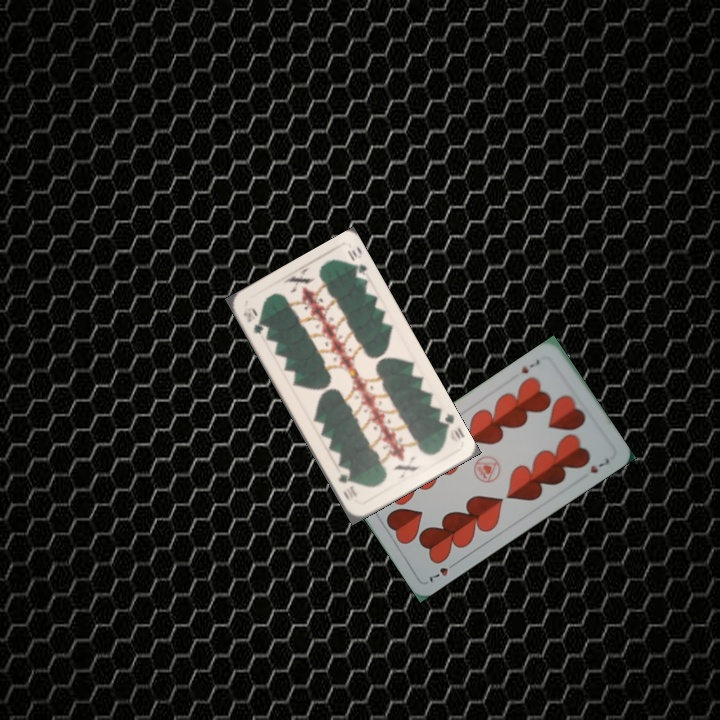G10: (434, 409, 467, 442), (239, 304, 266, 336)
H7: (425, 557, 460, 586), (516, 355, 542, 376)
